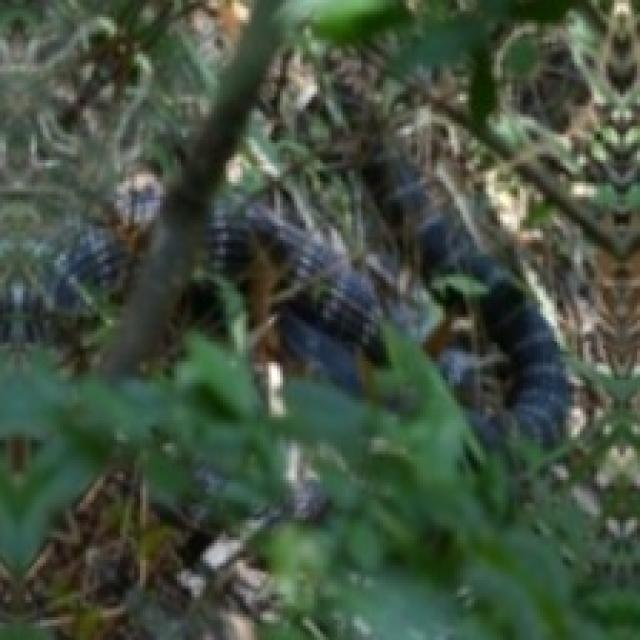king cobra: (0, 17, 569, 443)
